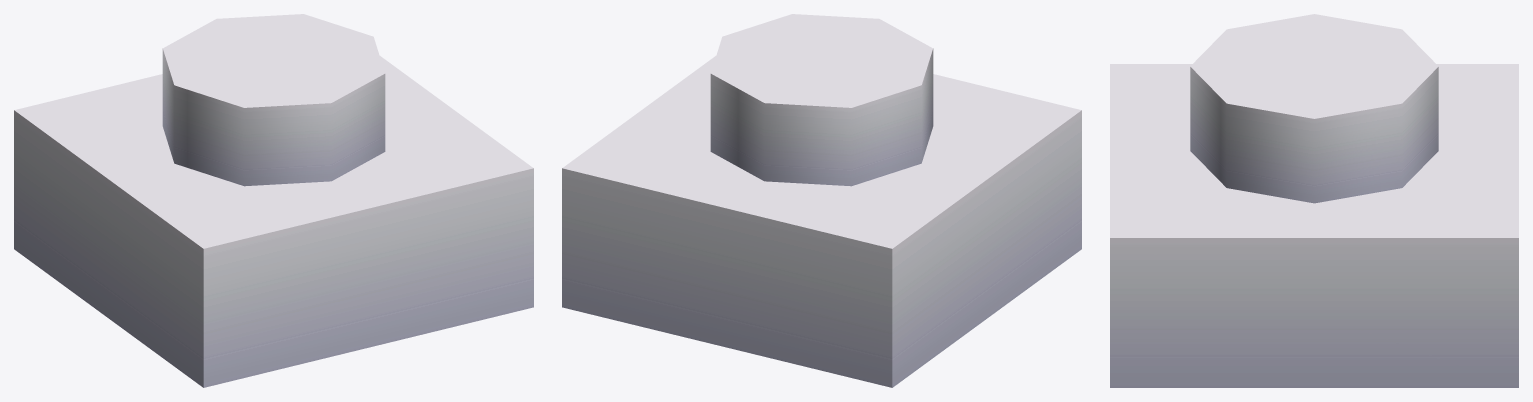
Rendered from round-lq-plate-1x1.glb.
The picture shows the model from 3 angles, left to right: view 1: azimuth 30°, elevation 25°; view 2: azimuth 150°, elevation 25°; view 3: azimuth 270°, elevation 25°; orthographic projection. The views are drawn at different scales.
Parts seen in each view (by area): view 1: round-lq-plate-1x1; view 2: round-lq-plate-1x1; view 3: round-lq-plate-1x1.
Part boxes in pixels (left/top/right/bottom): round-lq-plate-1x1: left=14, top=14, right=533, bottom=387; round-lq-plate-1x1: left=562, top=14, right=1081, bottom=387; round-lq-plate-1x1: left=1110, top=14, right=1518, bottom=387.
Bounding box in the file's own units: 0.0795 × 0.05 × 0.079.
Materials: 1 (1 with a texture image).
